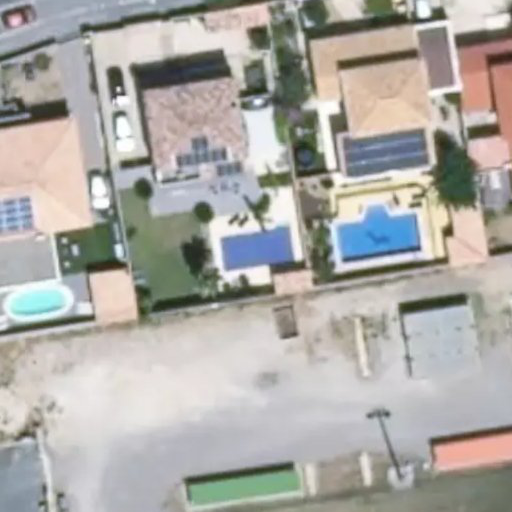pool: (216, 225, 294, 258)
